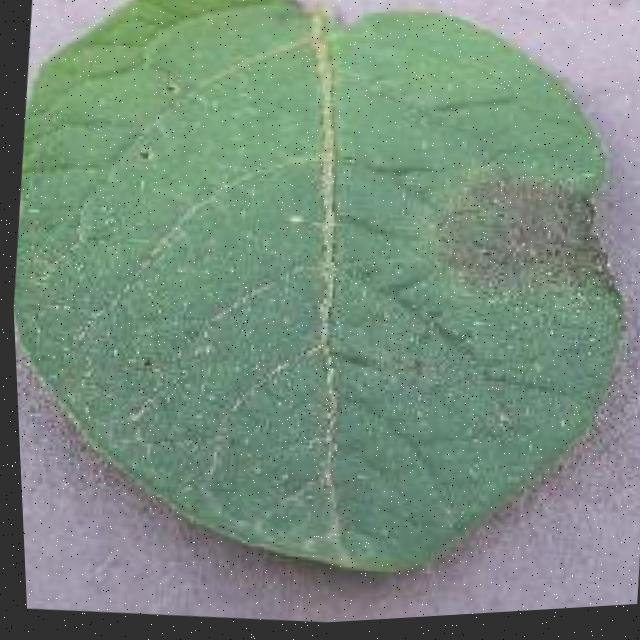Late_blight: (421, 146, 638, 332)
